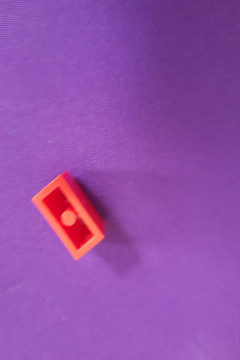1x2 red: (31, 170, 109, 263)
